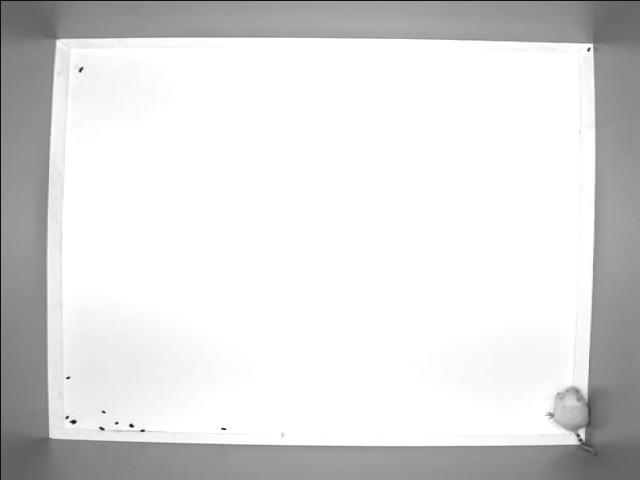Tikus: (544, 385, 596, 456)
